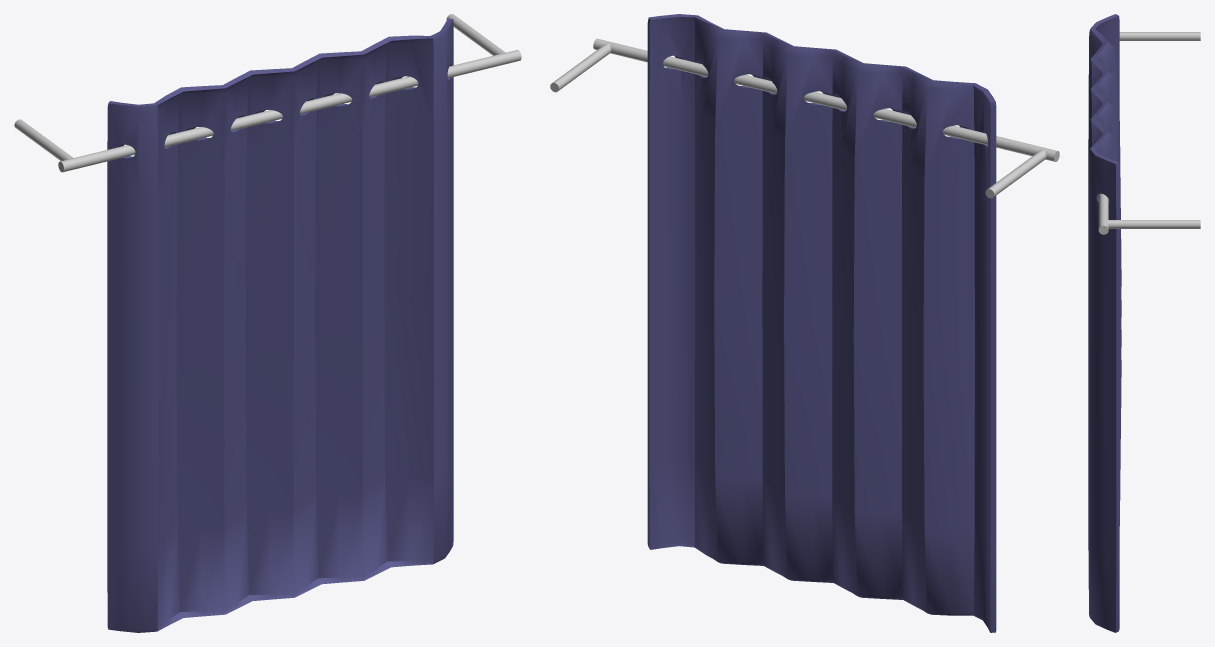
The model's file is verho_GJ22.fbx.
3 views of the same model, side by side, from view 1: azimuth 30°, elevation 25°; view 2: azimuth 150°, elevation 25°; view 3: azimuth 270°, elevation 25° (orthographic). The views are drawn at different scales.
Parts seen in each view (by area): view 1: Verho, Tanko; view 2: Verho, Tanko; view 3: Verho, Tanko.
Boxes of the visible parts, bbox=[...] form: Verho: bbox=[107, 18, 453, 632]; Tanko: bbox=[14, 14, 521, 172]; Verho: bbox=[647, 14, 996, 632]; Tanko: bbox=[550, 38, 1059, 198]; Verho: bbox=[1088, 14, 1121, 632]; Tanko: bbox=[1098, 32, 1200, 234].
Bounding box in the file's own units: 182 × 202 × 43.53.
